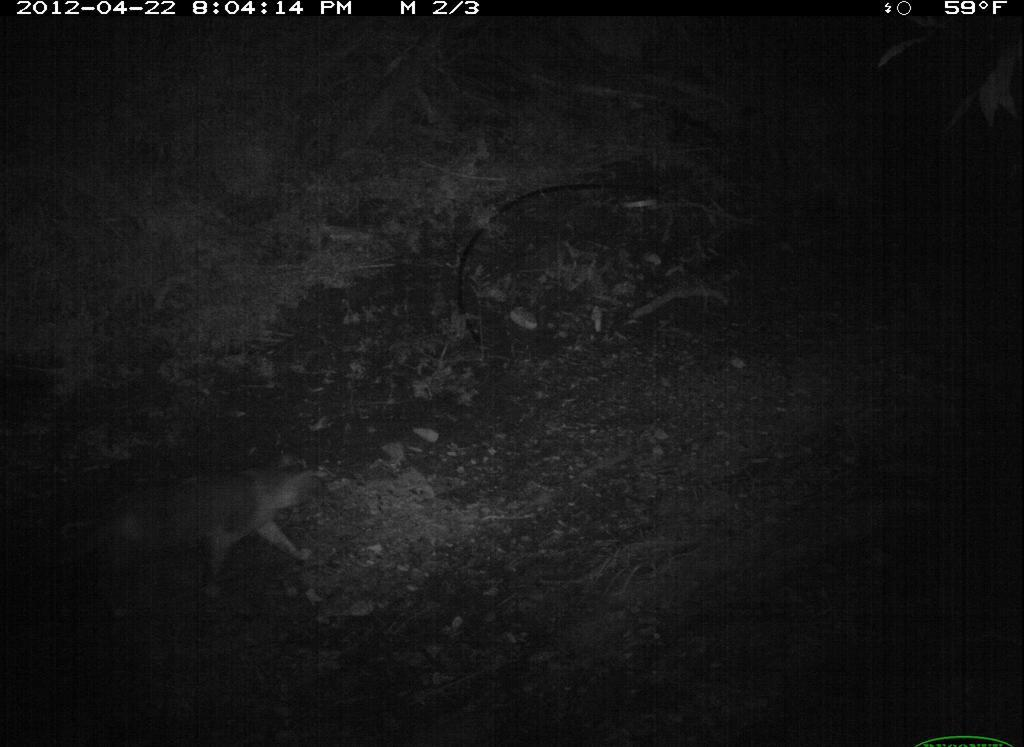cat: (67, 454, 326, 601)
